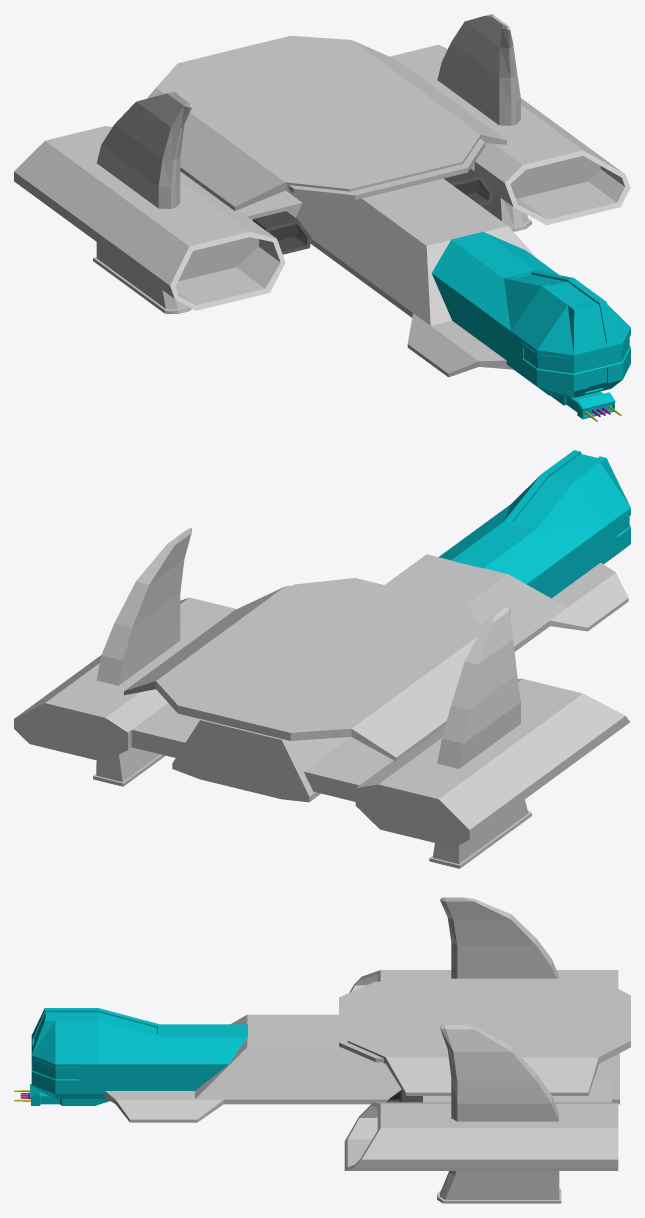
File: Spaceships.fbx
3 views of the same model, one above another, from view 1: azimuth 30°, elevation 25°; view 2: azimuth 150°, elevation 25°; view 3: azimuth 270°, elevation 25° (orthographic). The views are drawn at different scales.
Visible parts, largest first — view 1: Box01_1; view 2: Box01_1; view 3: Box01_1.
Boxes of the visible parts, bbox=[...] form: Box01_1: bbox=[14, 14, 630, 421]; Box01_1: bbox=[14, 450, 630, 868]; Box01_1: bbox=[14, 897, 630, 1203].
Bounding box in the file's own units: 2214 × 952 × 3156.
